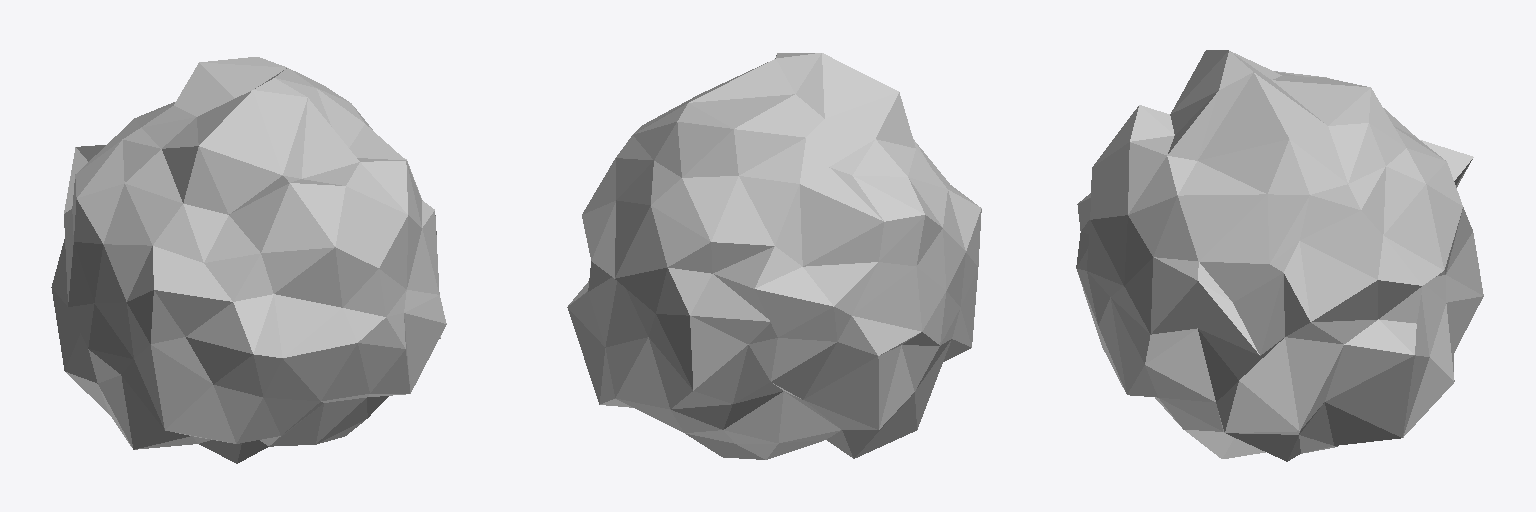
Rendered from fire_000020.obj.
The picture shows the model from 3 angles: view 1: azimuth 30°, elevation 25°; view 2: azimuth 150°, elevation 25°; view 3: azimuth 270°, elevation 25°; orthographic projection.
Visible parts, largest first — view 1: Icosphere; view 2: Icosphere; view 3: Icosphere.
Part boxes in pixels (bbox=[...]): Icosphere: bbox=[51, 57, 446, 463]; Icosphere: bbox=[567, 53, 981, 459]; Icosphere: bbox=[1076, 50, 1483, 461].
Size of the model in its own units: 1.52 by 1.63 by 1.57.